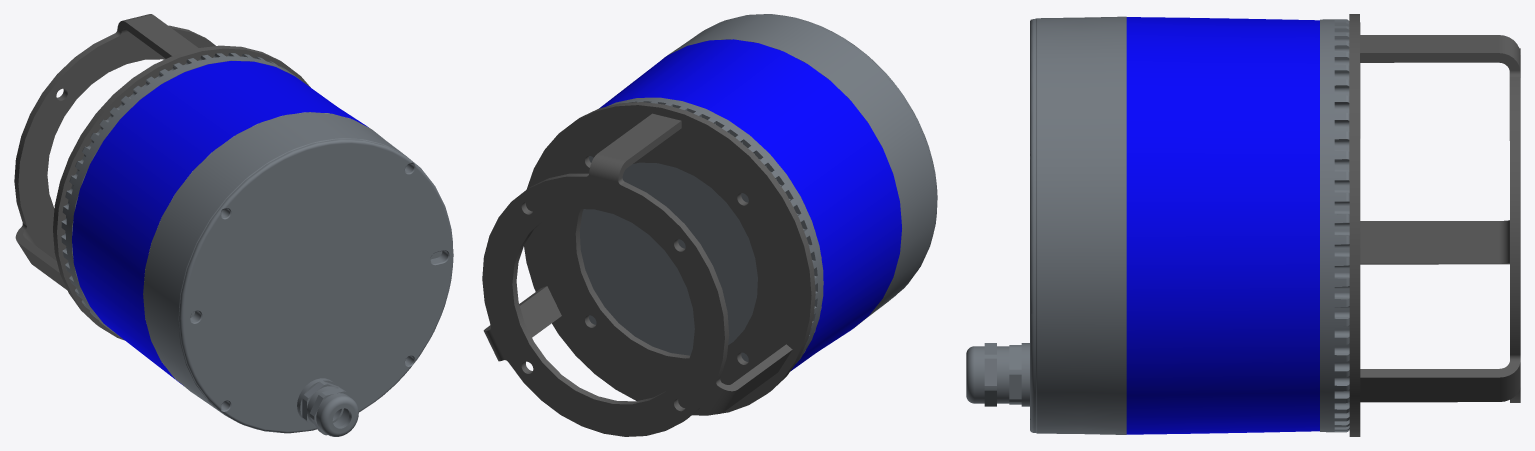
File: sensor_lidar_visual.obj
3 renders of one model, left to right at view 1: azimuth 30°, elevation 25°; view 2: azimuth 150°, elevation 25°; view 3: azimuth 270°, elevation 25°, orthographic. The views are drawn at different scales.
Visible parts, largest first — view 1: BTM_13_73_119_6.001, ZHAO_1_1_4_4_2.001, 雷达_雷神M10支架_1.001, 雷达_雷神M10支架_001.001, __V20_1_11_29_2.001, WATERPROOF-CONNECTOR_1.001; view 2: 雷达_雷神M10支架_001.001, ZHAO_1_1_4_4_2.001, 雷达_雷神M10支架_1.001, __V20_1_11_29_2.001, BTM_13_73_119_6.001; view 3: ZHAO_1_1_4_4_2.001, BTM_13_73_119_6.001, 雷达_雷神M10支架_1.001, __V20_1_11_29_2.001, 雷达_雷神M10支架_001.001, WATERPROOF-CONNECTOR_1.001.
Boxes of the visible parts, box(x1,y1,x2,y2) form: BTM_13_73_119_6.001: box(143, 112, 453, 433); ZHAO_1_1_4_4_2.001: box(72, 61, 369, 385); 雷达_雷神M10支架_1.001: box(14, 14, 215, 290); 雷达_雷神M10支架_001.001: box(53, 45, 310, 340); __V20_1_11_29_2.001: box(61, 53, 299, 335); WATERPROOF-CONNECTOR_1.001: box(302, 381, 358, 436); 雷达_雷神M10支架_001.001: box(524, 102, 815, 415); ZHAO_1_1_4_4_2.001: box(599, 39, 901, 371); 雷达_雷神M10支架_1.001: box(482, 113, 792, 436); __V20_1_11_29_2.001: box(579, 97, 823, 363); BTM_13_73_119_6.001: box(662, 14, 937, 328); ZHAO_1_1_4_4_2.001: box(1126, 17, 1319, 434); BTM_13_73_119_6.001: box(1021, 16, 1126, 434); 雷达_雷神M10支架_1.001: box(1360, 35, 1520, 402); __V20_1_11_29_2.001: box(1320, 19, 1349, 432); 雷达_雷神M10支架_001.001: box(1349, 14, 1360, 436); WATERPROOF-CONNECTOR_1.001: box(966, 343, 1021, 406).
Bounding box in the file's own units: 0.1029 × 0.1029 × 0.1349.
